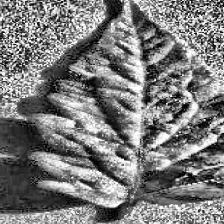leaf mold: (32, 0, 224, 205)
